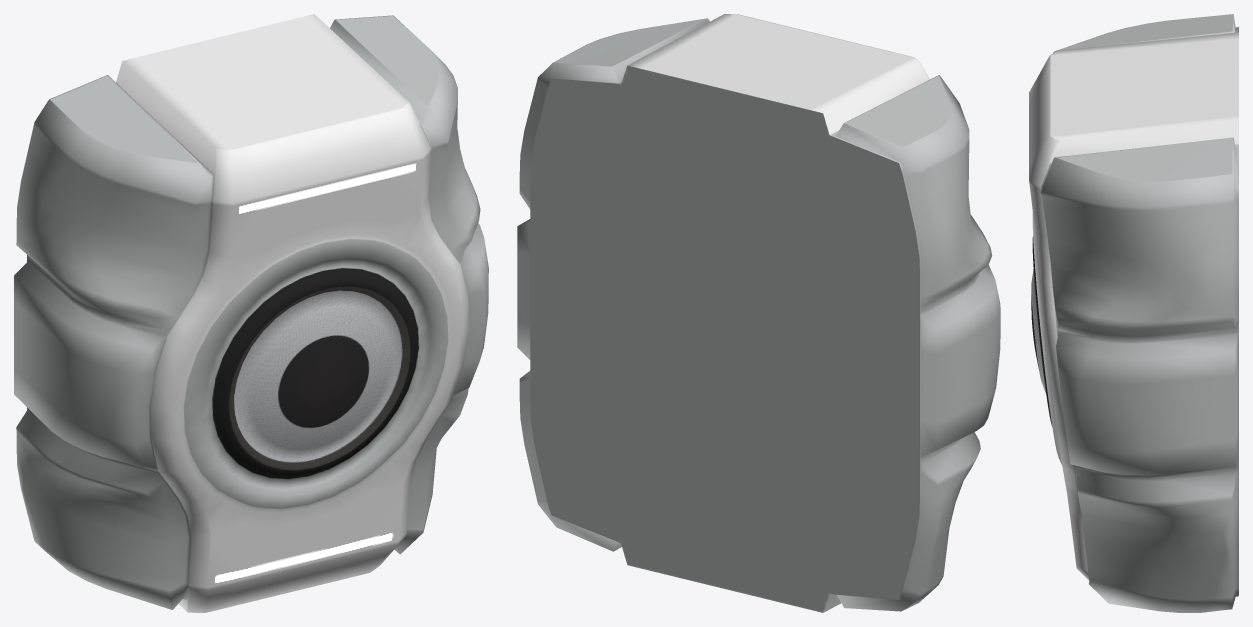
The model's file is SpeakerWall02_1.FBX.
The picture shows the model from 3 angles, left to right: view 1: azimuth 30°, elevation 25°; view 2: azimuth 150°, elevation 25°; view 3: azimuth 270°, elevation 25°; orthographic projection. The views are drawn at different scales.
Visible parts, largest first — view 1: SpeakerWall02_1; view 2: SpeakerWall02_1; view 3: SpeakerWall02_1.
Part boxes in pixels (left/top/right/bottom): SpeakerWall02_1: left=14, top=14, right=488, bottom=612; SpeakerWall02_1: left=517, top=14, right=1000, bottom=612; SpeakerWall02_1: left=1029, top=14, right=1238, bottom=612.
Size of what is drawn, in the model's own units: 0.6208 by 0.7241 by 0.2855.
